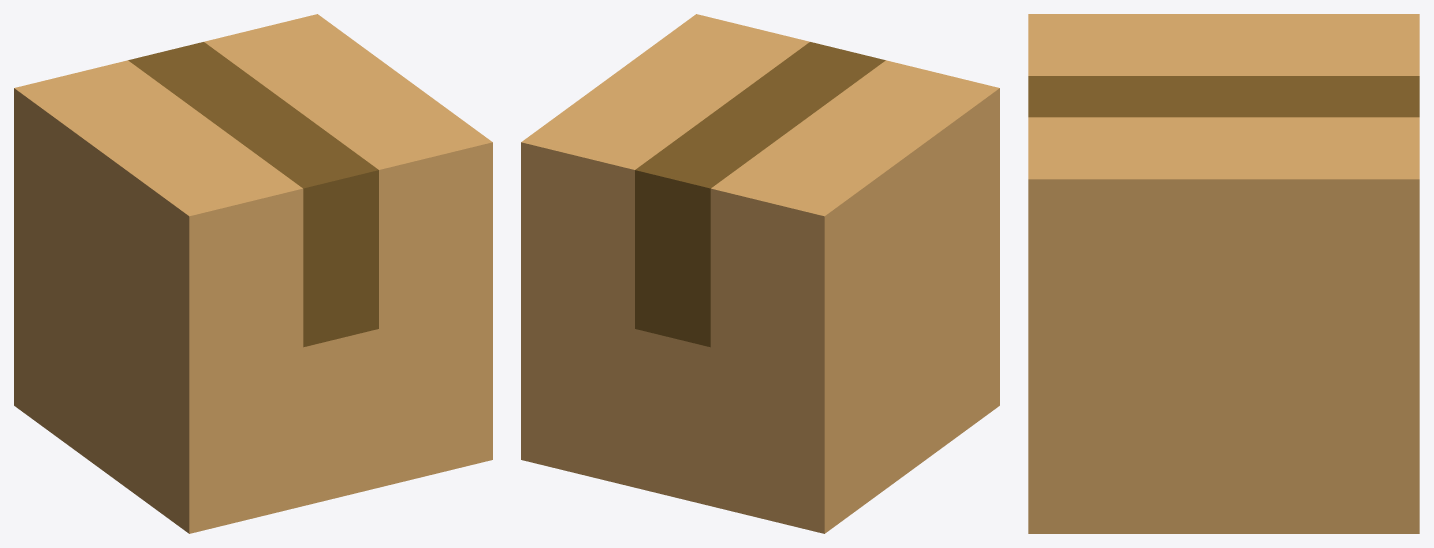
3 renders of one model, left to right at view 1: azimuth 30°, elevation 25°; view 2: azimuth 150°, elevation 25°; view 3: azimuth 270°, elevation 25°, orthographic. The views are drawn at different scales.
Visible parts, largest first — view 1: Cube.001; view 2: Cube.001; view 3: Cube.001.
Part boxes in pixels (bbox=[...]): Cube.001: bbox=[14, 14, 492, 533]; Cube.001: bbox=[521, 14, 999, 533]; Cube.001: bbox=[1028, 14, 1419, 533].
Size of the model in its own units: 500 by 500 by 500.
